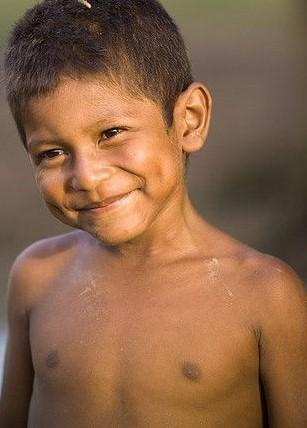Healthy: (4, 32, 209, 250)
